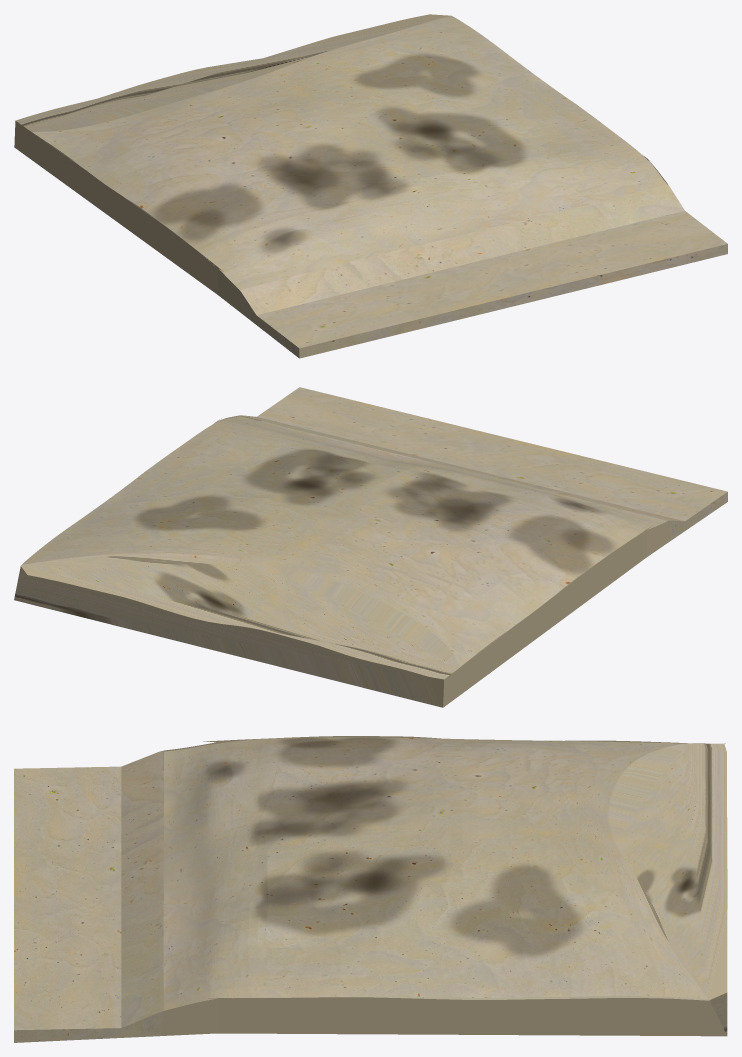
The model's file is BeachTerrainSecond.glb.
3 renders of one model, top to bottom at view 1: azimuth 30°, elevation 25°; view 2: azimuth 150°, elevation 25°; view 3: azimuth 270°, elevation 25°, orthographic. The views are drawn at different scales.
Visible parts, largest first — view 1: humus.001; view 2: humus.001; view 3: humus.001.
Boxes of the visible parts, left/top/right/bottom form: humus.001: left=14, top=14, right=727, bottom=358; humus.001: left=14, top=387, right=727, bottom=707; humus.001: left=14, top=736, right=727, bottom=1042.
Bounding box in the file's own units: 40.02 × 5.65 × 45.81.
4 materials, 1 textured.
